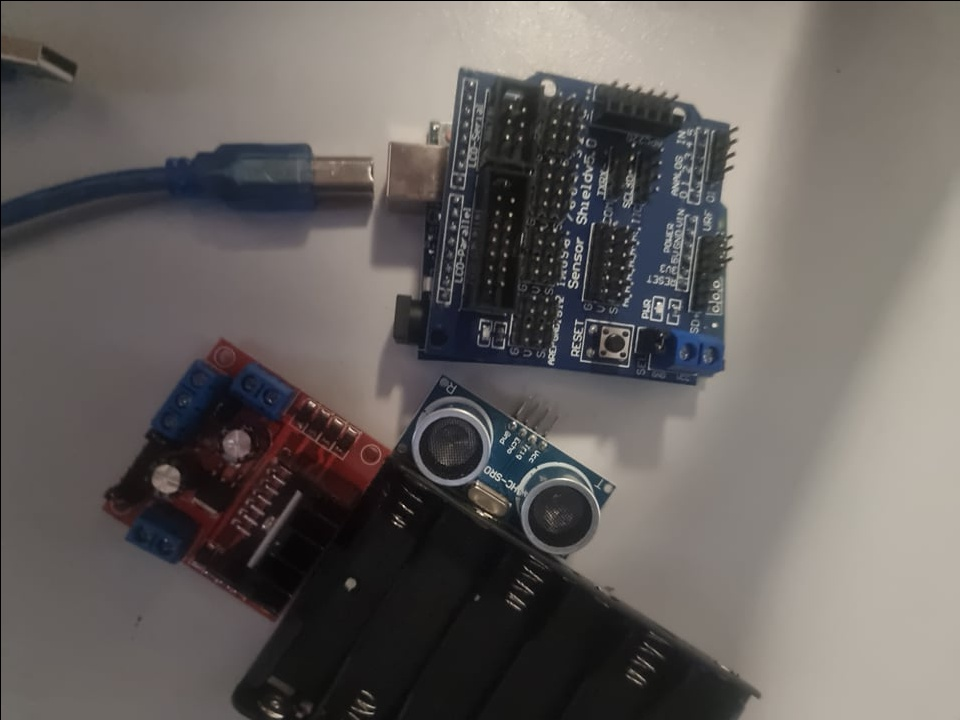BATTERY BOX: (231, 453, 754, 719)
MOTOR: (103, 330, 387, 621)
SENSOR: (398, 371, 616, 553)
UNO R3: (449, 58, 736, 372)
